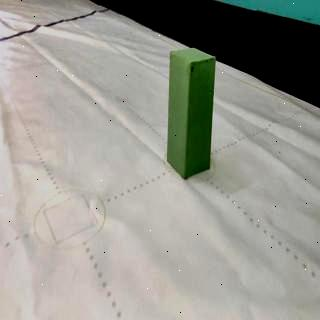greenbox: (165, 46, 218, 179)
